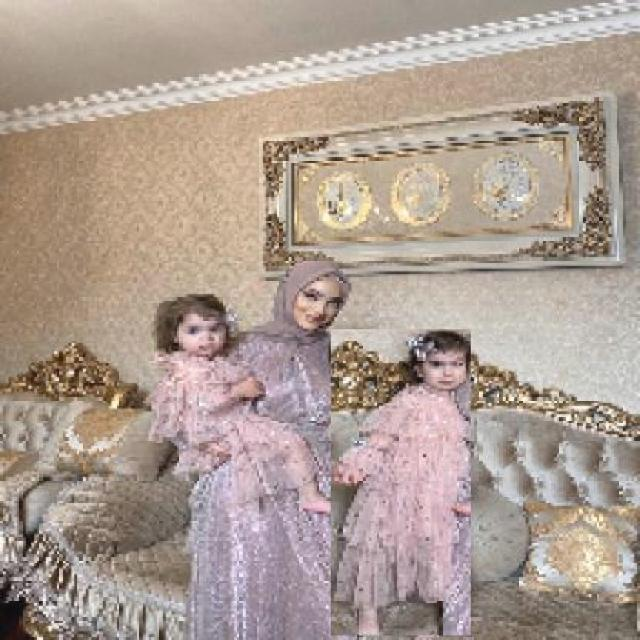child: (142, 293, 348, 516), (329, 329, 471, 637)
